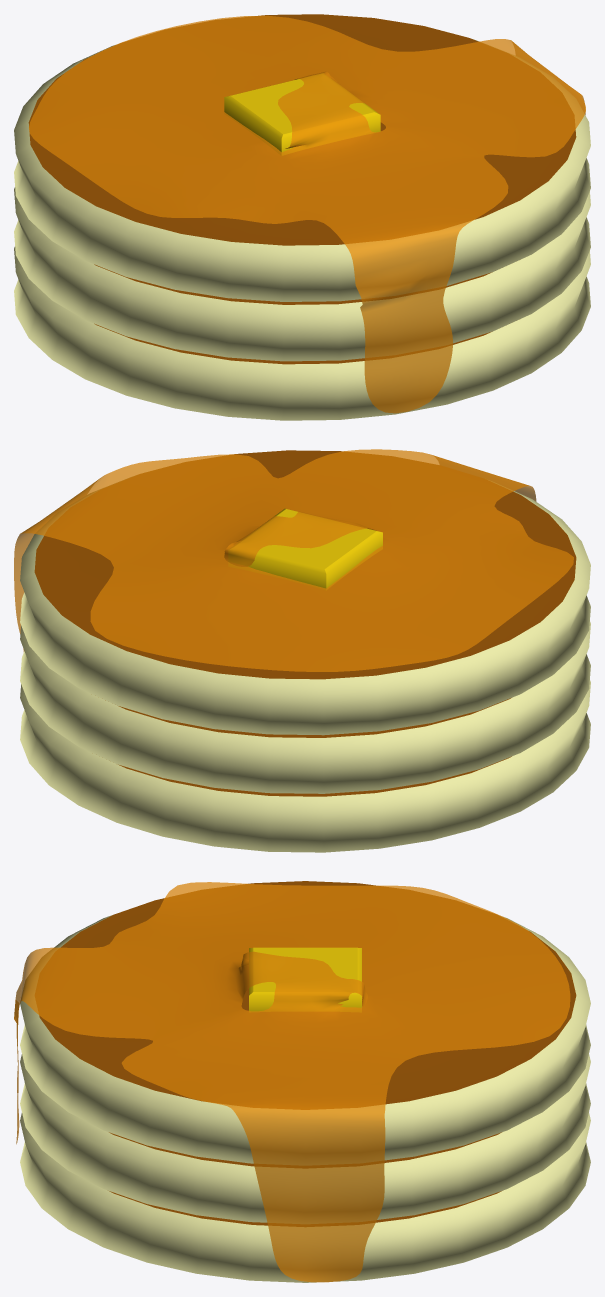
Rendered from Pancake.fbx.
3 renders of one model, top to bottom at view 1: azimuth 30°, elevation 25°; view 2: azimuth 150°, elevation 25°; view 3: azimuth 270°, elevation 25°, orthographic.
Parts seen in each view (by area): view 1: Cylinder, Plane, Cube; view 2: Cylinder, Plane, Cube; view 3: Cylinder, Plane, Cube.
Part boxes in pixels (x1,y1,x2,y2): Cylinder: [14, 14, 590, 420]; Plane: [29, 15, 585, 413]; Cube: [224, 73, 380, 155]; Cylinder: [20, 450, 590, 852]; Plane: [14, 449, 573, 671]; Cube: [228, 508, 382, 589]; Cylinder: [20, 881, 590, 1282]; Plane: [14, 882, 570, 1282]; Cube: [249, 947, 361, 1012].
Size of the model in its own units: 206 by 77.64 by 202.
